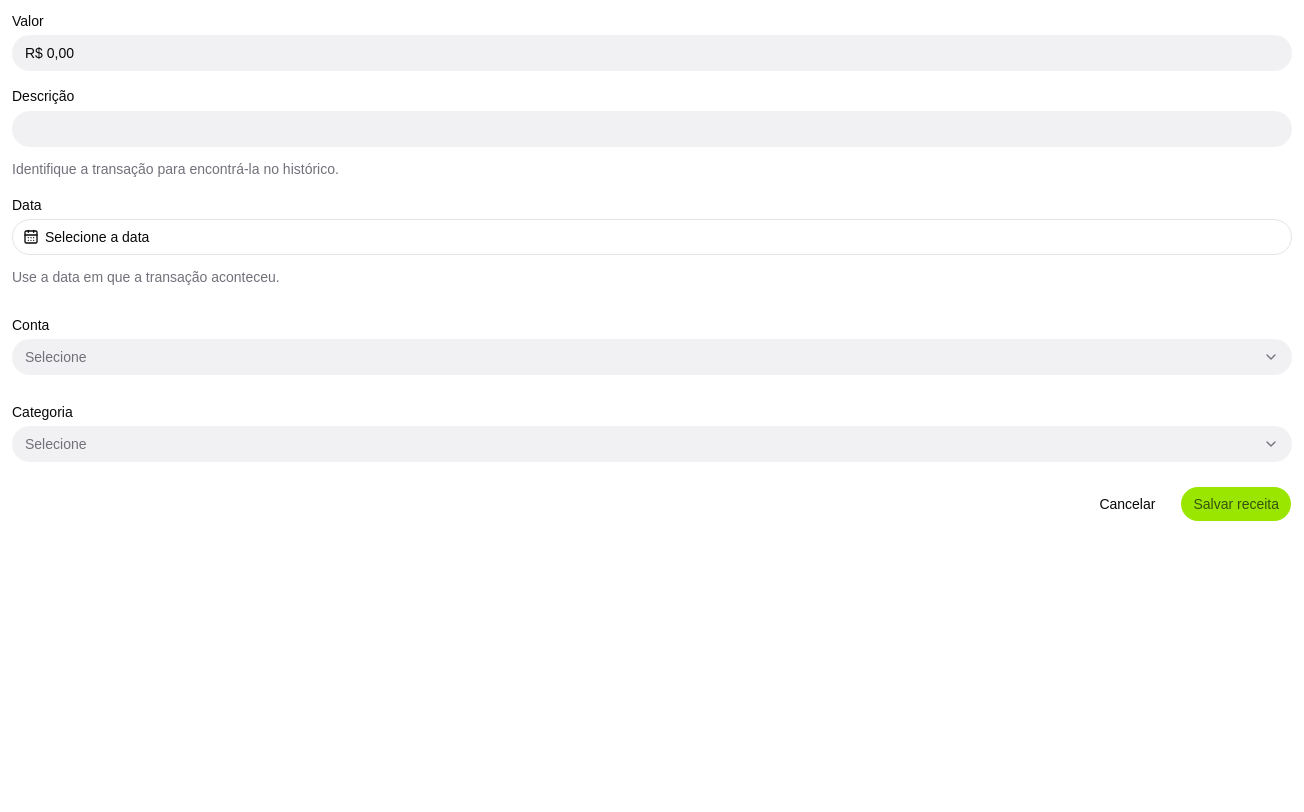
IncomeForm › shows field validation without sending a draft
Click the button "Salvar receita" at (1236, 504), box x1=1180 y1=486 x2=1292 y2=522
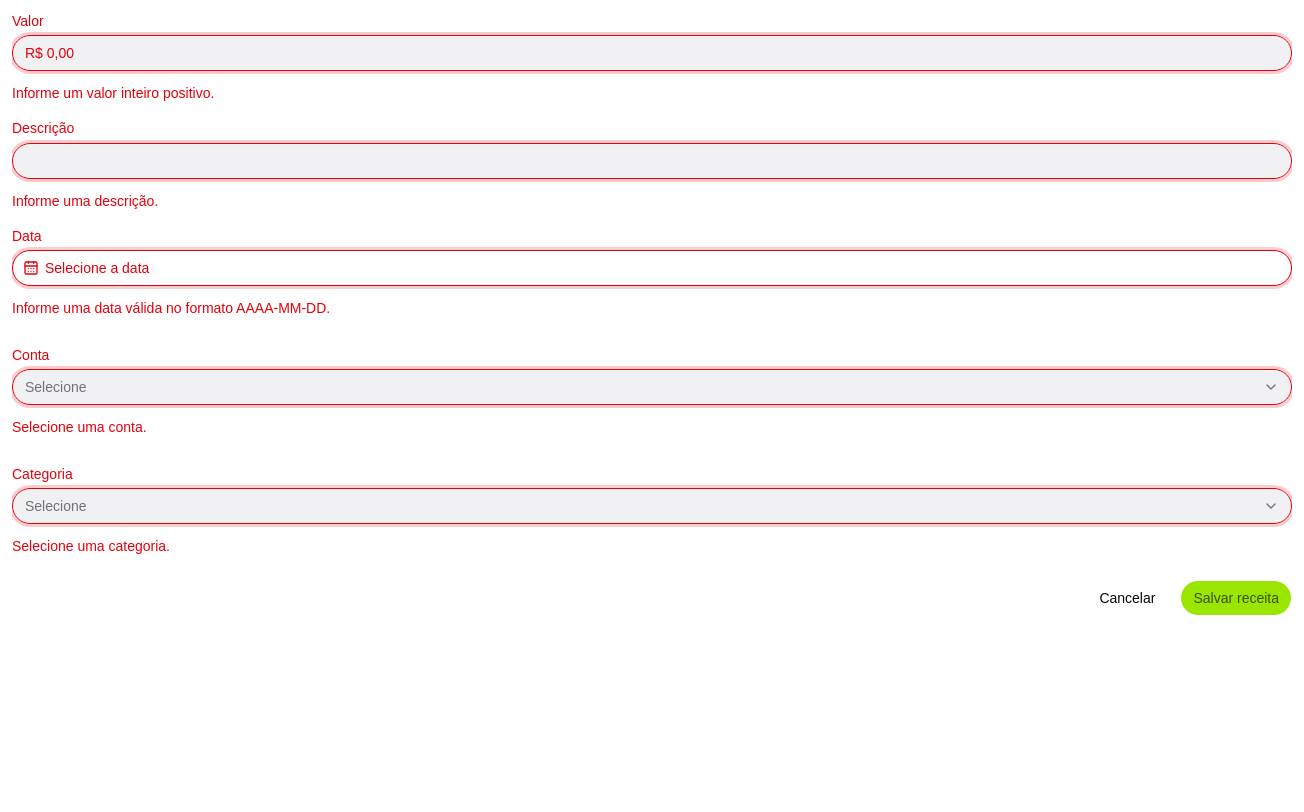
Now the text "Informe um valor inteiro positivo." is shown, box x1=12 y1=85 x2=214 y2=101
